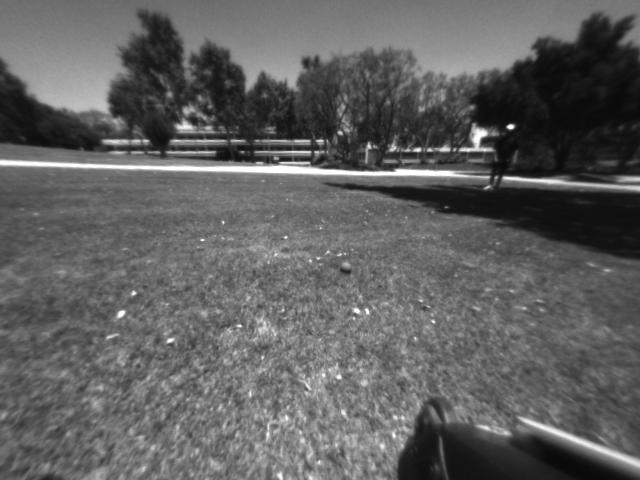dogtoy: (332, 256, 357, 279)
